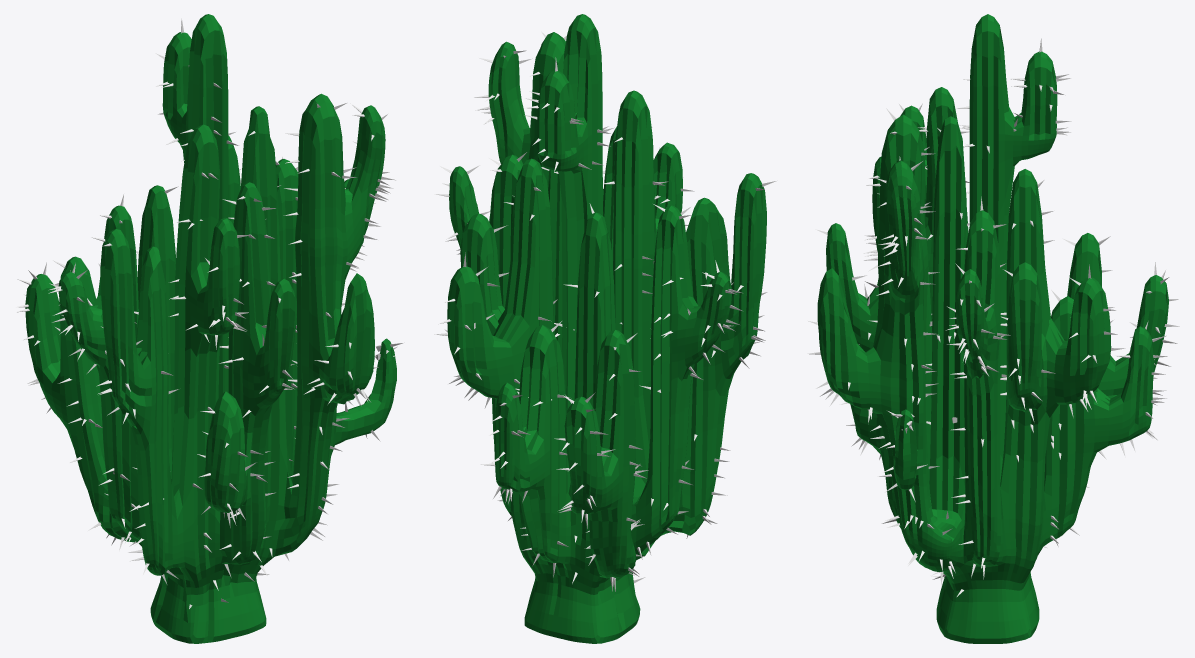
File: Organcacti_Nopal.fbx
3 renders of one model, left to right at view 1: azimuth 30°, elevation 25°; view 2: azimuth 150°, elevation 25°; view 3: azimuth 270°, elevation 25°, orthographic.
Parts seen in each view (by area): view 1: Plane; view 2: Plane; view 3: Plane.
Part boxes in pixels (x1,y1,x2,y2): Plane: [25, 14, 396, 643]; Plane: [447, 14, 766, 643]; Plane: [817, 14, 1168, 643].
Size of the model in its own units: 441 by 812 by 453.
